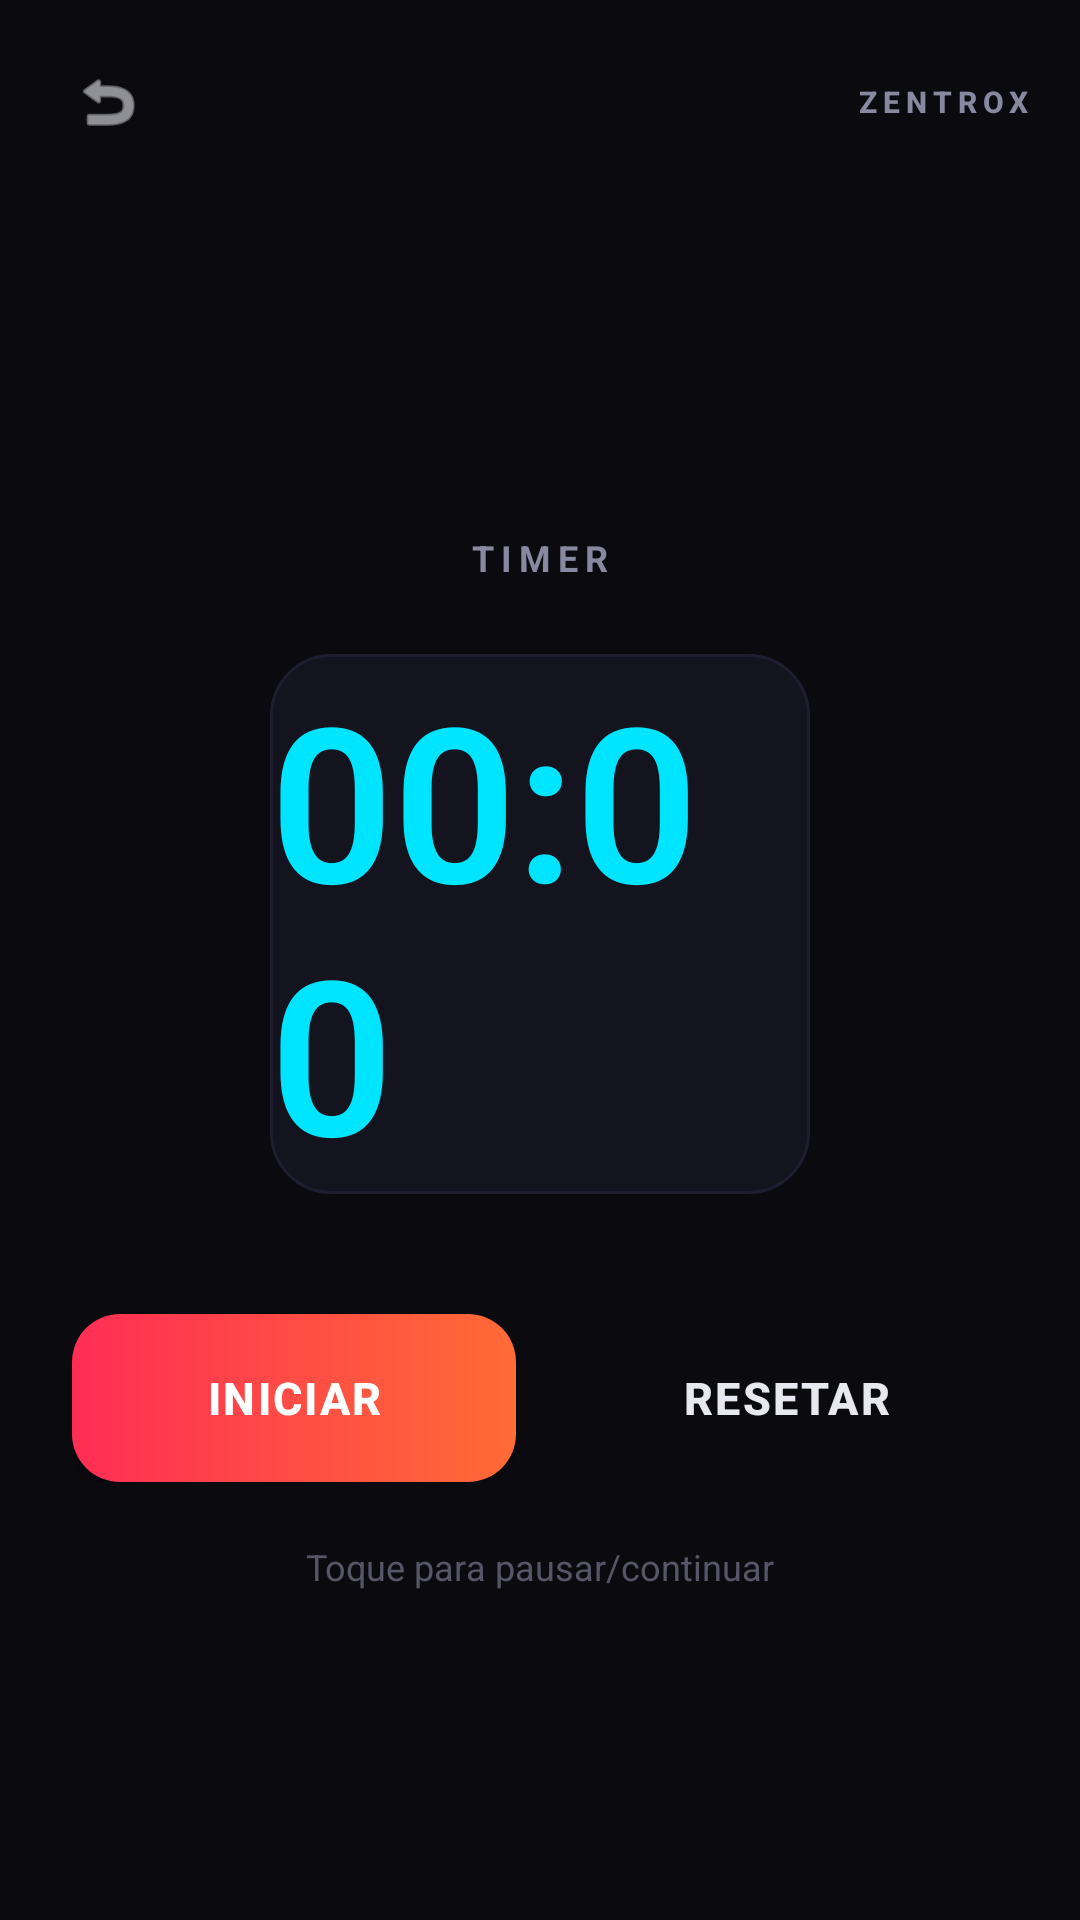

Point at icon controls on the screen. Image size 1080px x 1920px, points as (x=x, y=y).
Voltar: (x=109, y=102)
